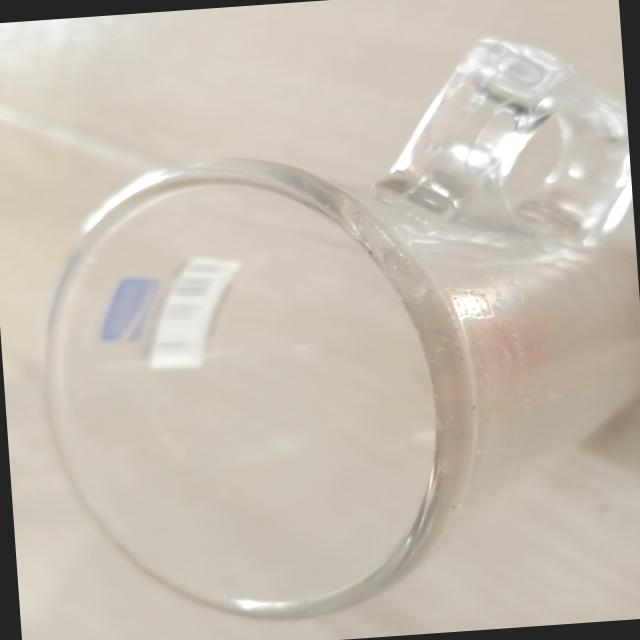glass-VX4N: (16, 26, 640, 636)
